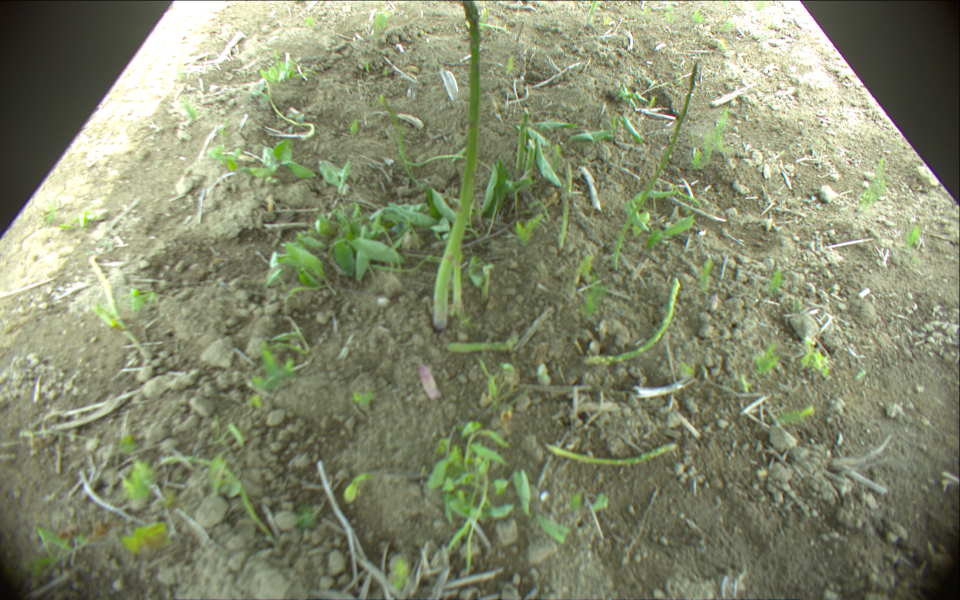aspa: (613, 61, 699, 267), (433, 1, 482, 329), (584, 276, 679, 363), (88, 253, 152, 358), (262, 68, 316, 139), (549, 442, 676, 466), (451, 245, 466, 312), (553, 182, 567, 251), (516, 116, 529, 178), (465, 22, 509, 32)
